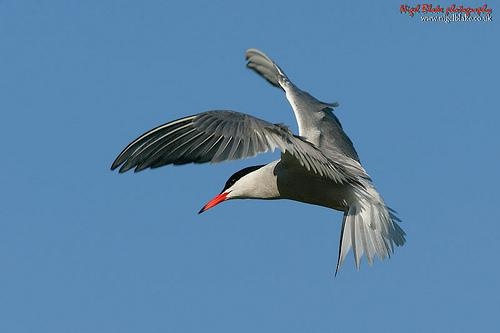bird: (110, 44, 408, 278)
